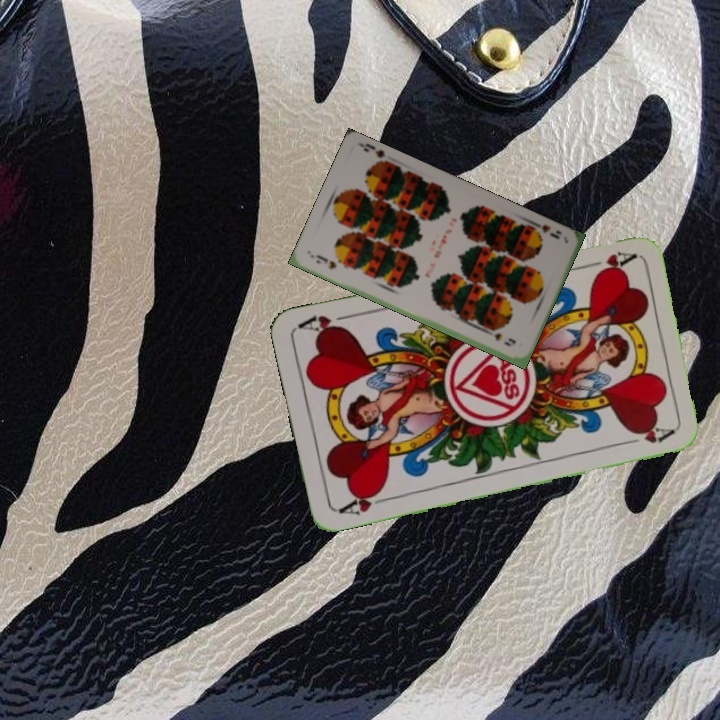HA: (333, 486, 392, 518), (578, 247, 637, 277)
S9: (527, 217, 562, 241), (312, 256, 339, 272)
